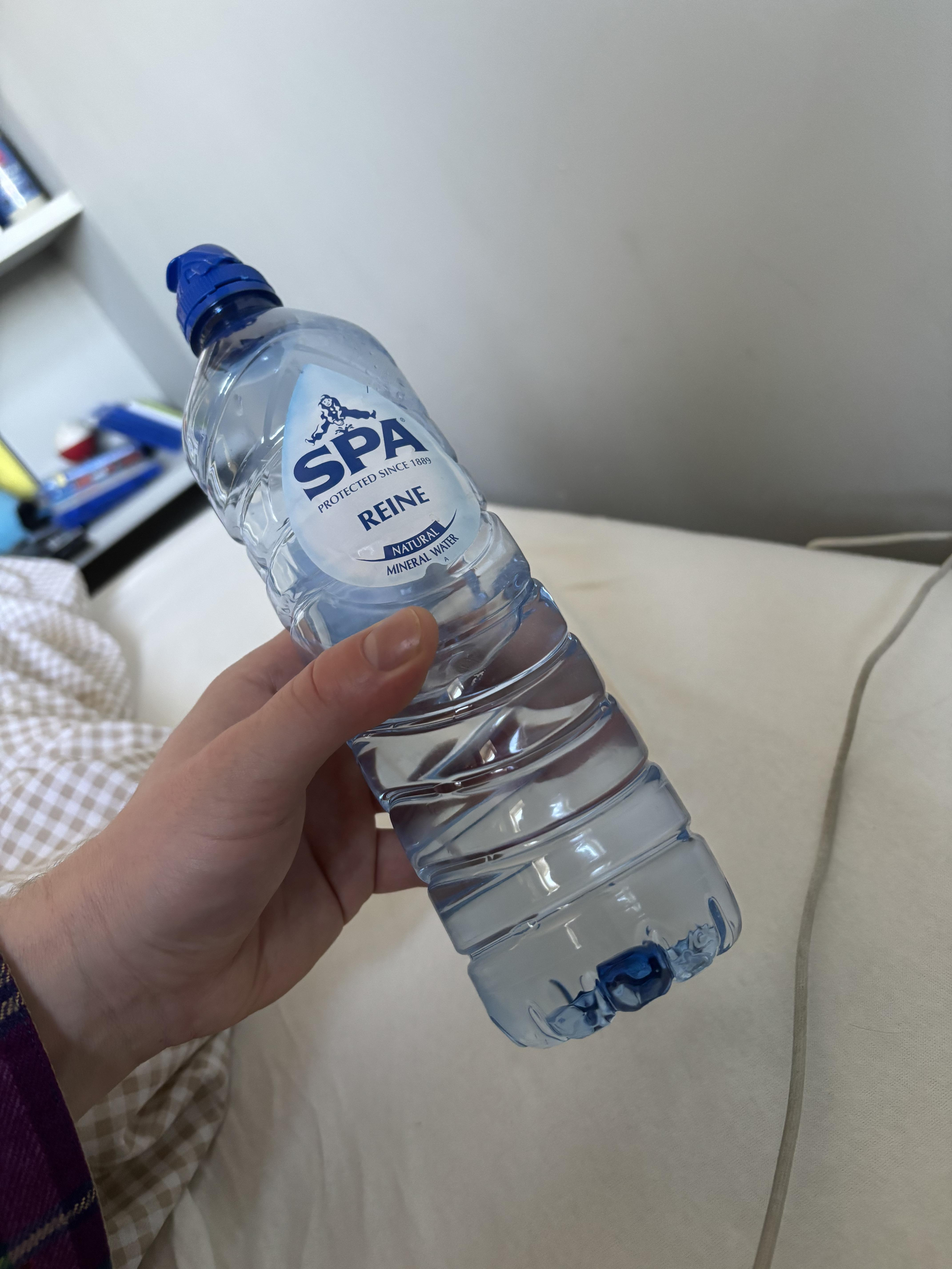Plastic: (142, 229, 750, 1051)
